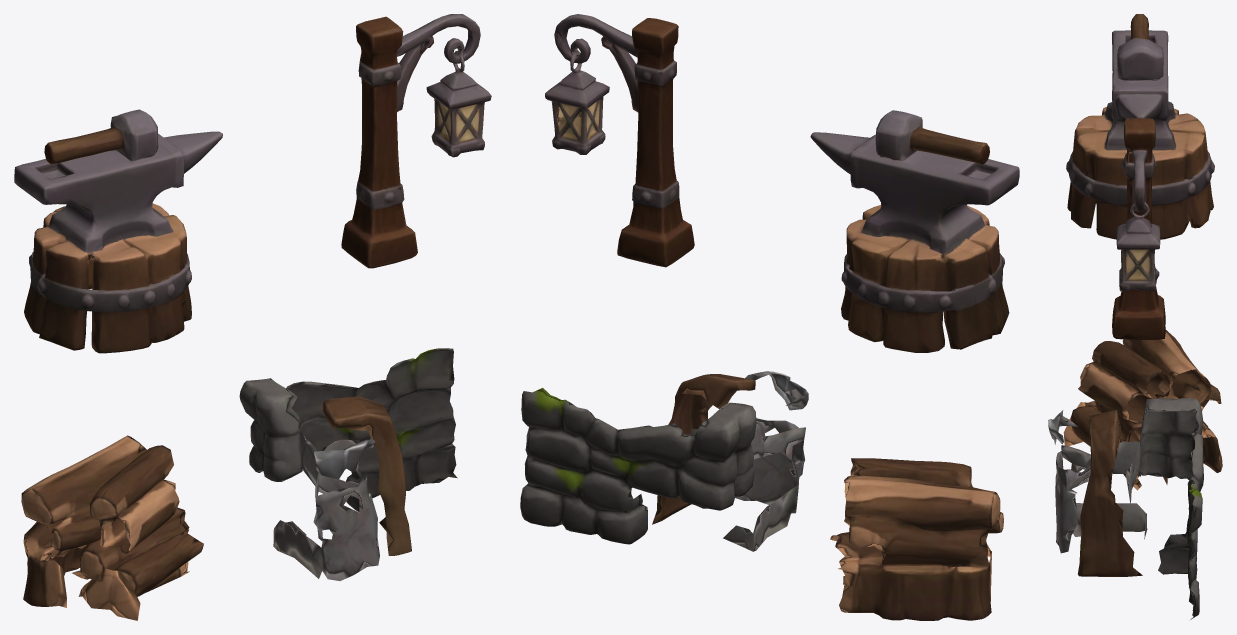
3 views of the same model, side by side, from view 1: azimuth 30°, elevation 25°; view 2: azimuth 150°, elevation 25°; view 3: azimuth 270°, elevation 25° (orthographic). The views are drawn at different scales.
Parts seen in each view (by area): view 1: world; view 2: world; view 3: world.
Part boxes in pixels (bbox=[...]): world: bbox=[14, 14, 491, 620]; world: bbox=[520, 14, 1019, 620]; world: bbox=[1048, 14, 1222, 619].
Bounding box in the file's own units: 0.9432 × 0.9951 × 0.3453.
Materials: 1 (1 with a texture image).
